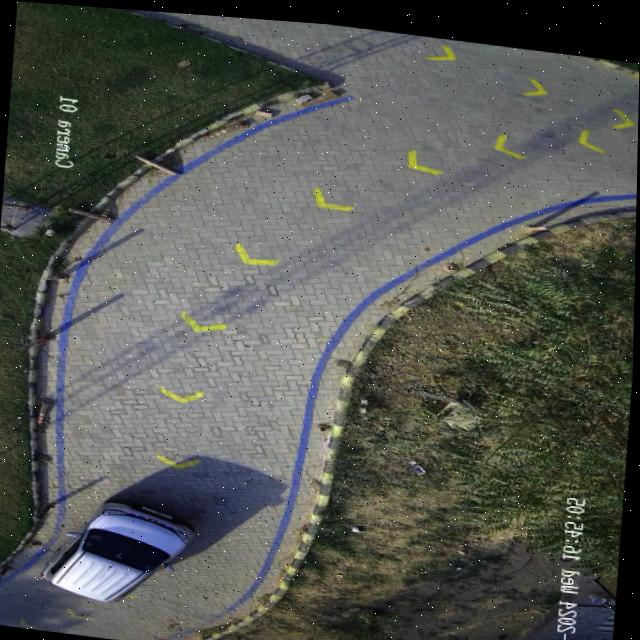car: (43, 500, 196, 600)
